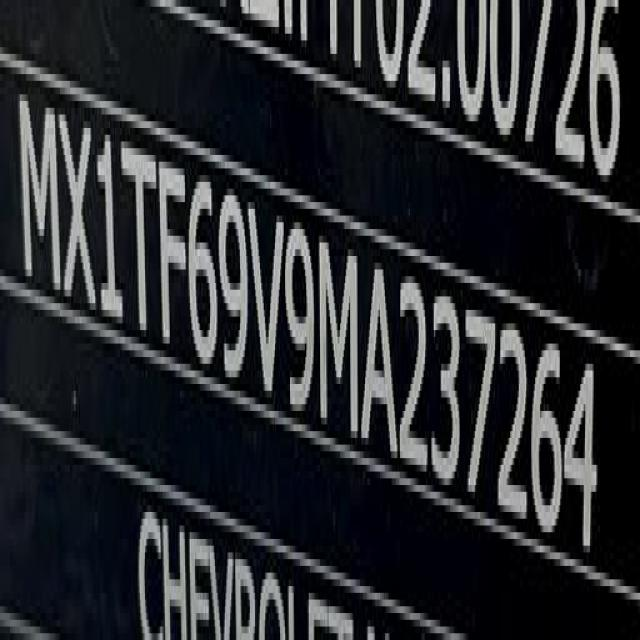1: (98, 118, 120, 334)
2: (499, 326, 530, 534), (398, 266, 428, 480)
3: (433, 285, 460, 495)
4: (564, 346, 600, 564)
6: (532, 328, 563, 544), (191, 164, 220, 378)
7: (467, 298, 494, 516)
9: (220, 183, 248, 392), (288, 213, 315, 427)
A: (364, 256, 395, 466)
F: (157, 152, 187, 362)
M: (16, 78, 58, 305), (318, 230, 359, 447)
T: (121, 132, 157, 352)
V: (248, 190, 286, 404)
X: (61, 106, 95, 322)
